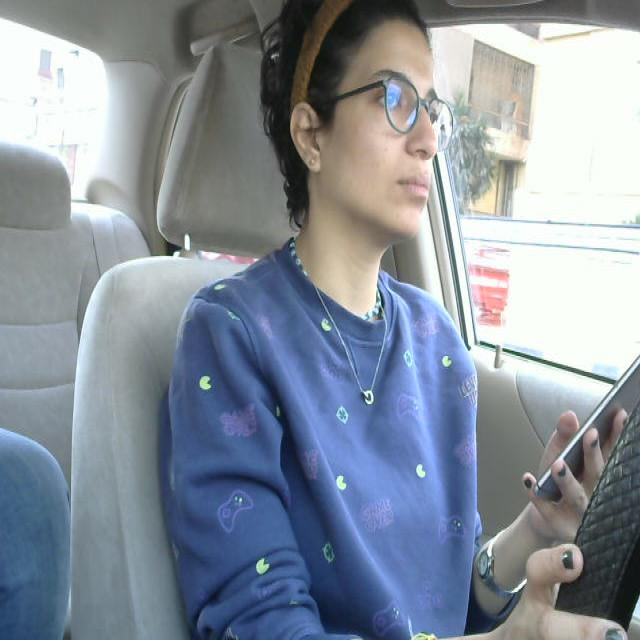mobile use: (534, 345, 640, 514)
